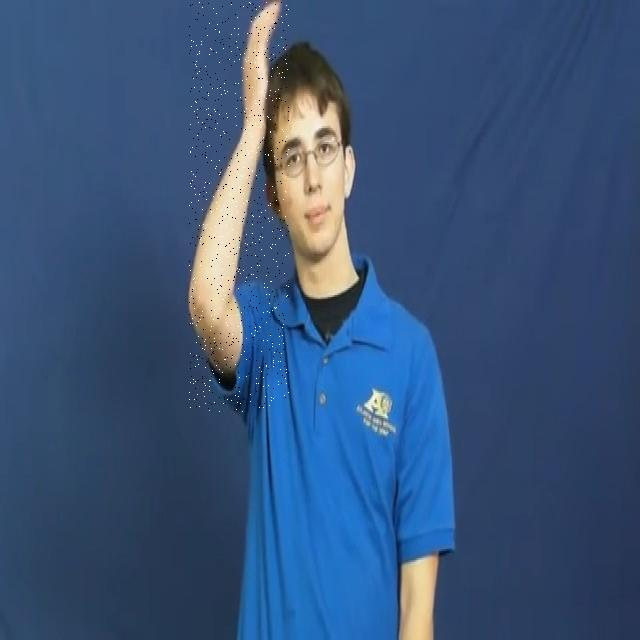lettuce: (189, 2, 289, 412)
